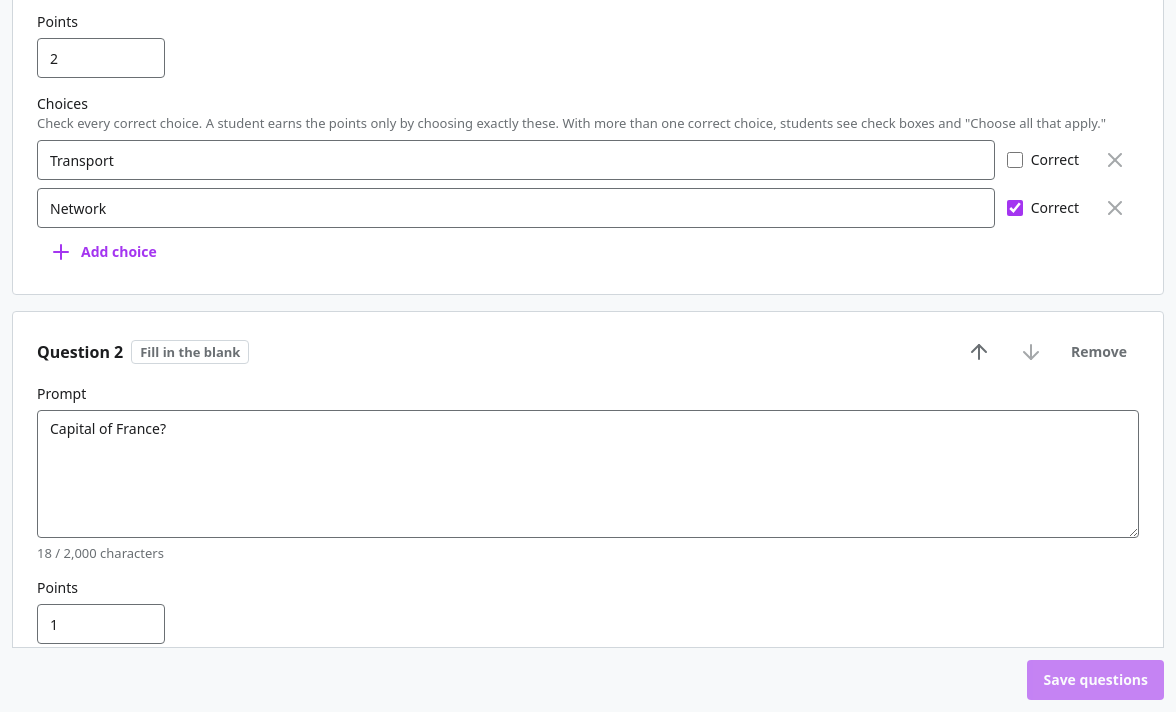
remove focuses the previous card heading, or the first Add button
(page scrolled)
Expected: the heading "Question 2" is shown, left=37, top=340, right=123, bottom=364
Click the button with aria-label "Remove question 2". click: [1099, 352]
box: left=1059, top=336, right=1139, bottom=368
(page scrolled)
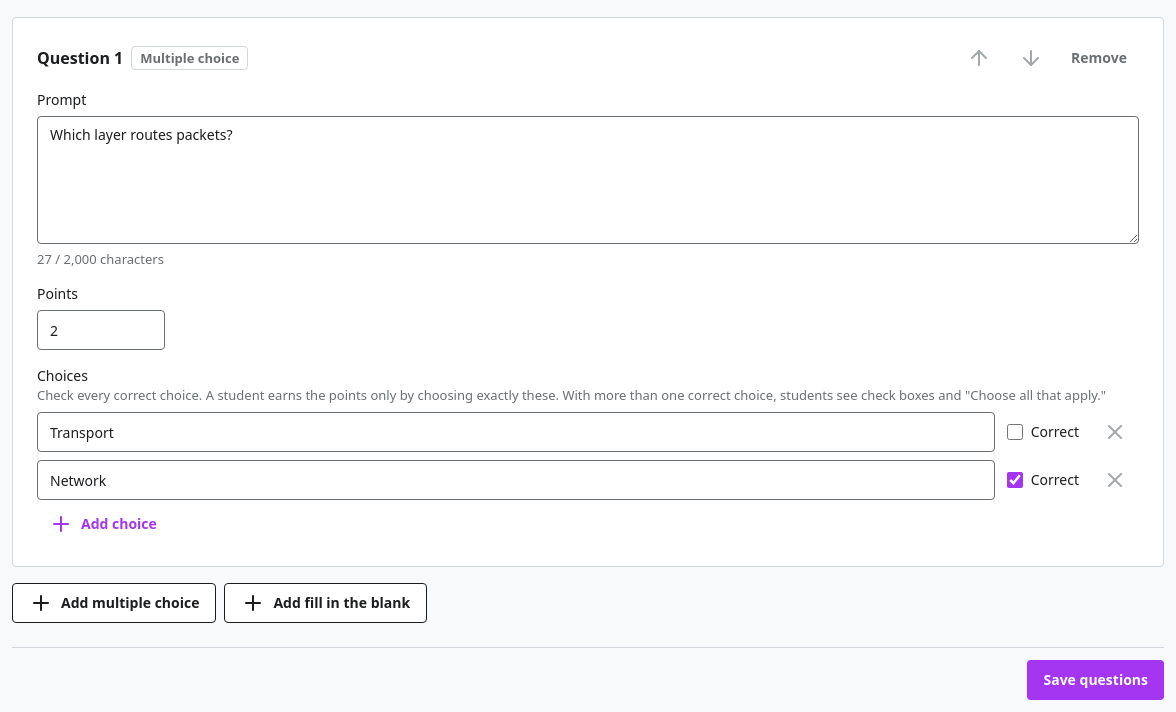
Click the button with aria-label "Remove question 1". click: [1099, 58]
box: left=1059, top=42, right=1139, bottom=74
(page scrolled)
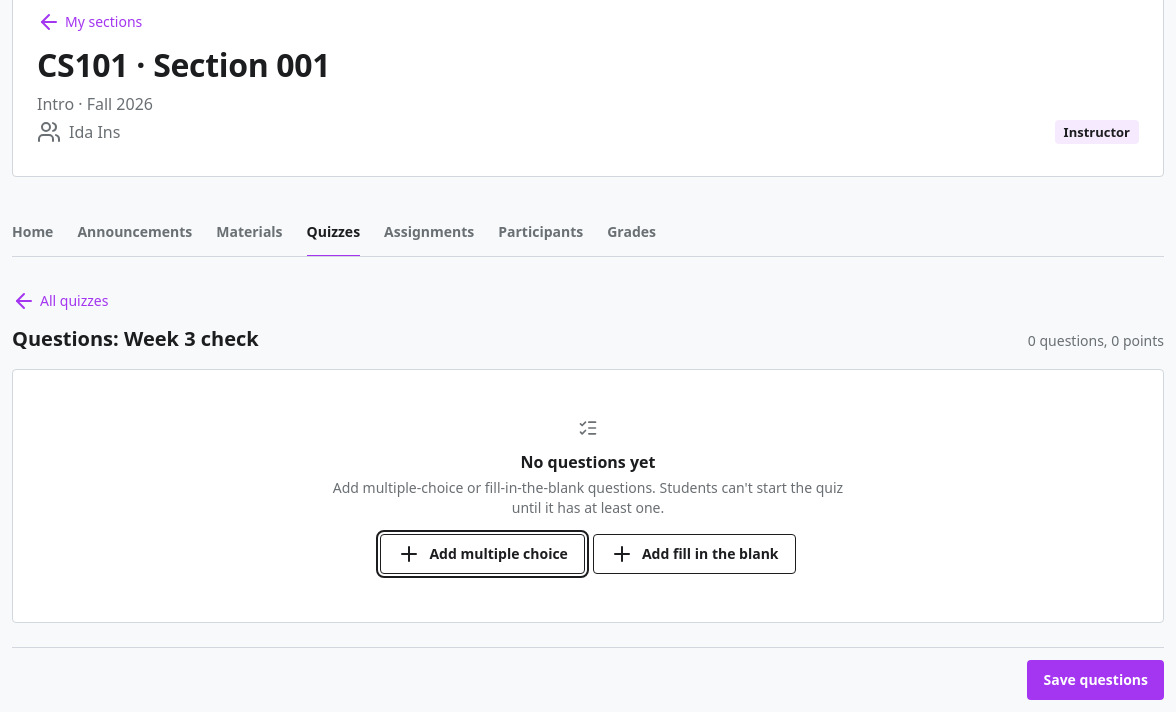
Expected: the text "No questions yet" is shown, left=520, top=451, right=656, bottom=473
